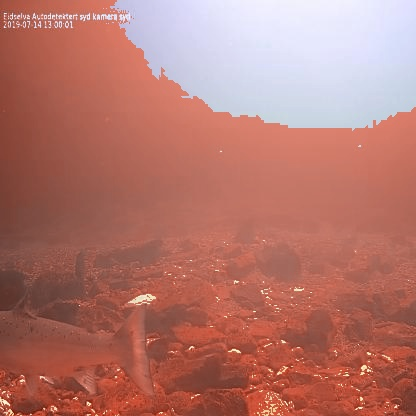salmon: (0, 288, 158, 398)
